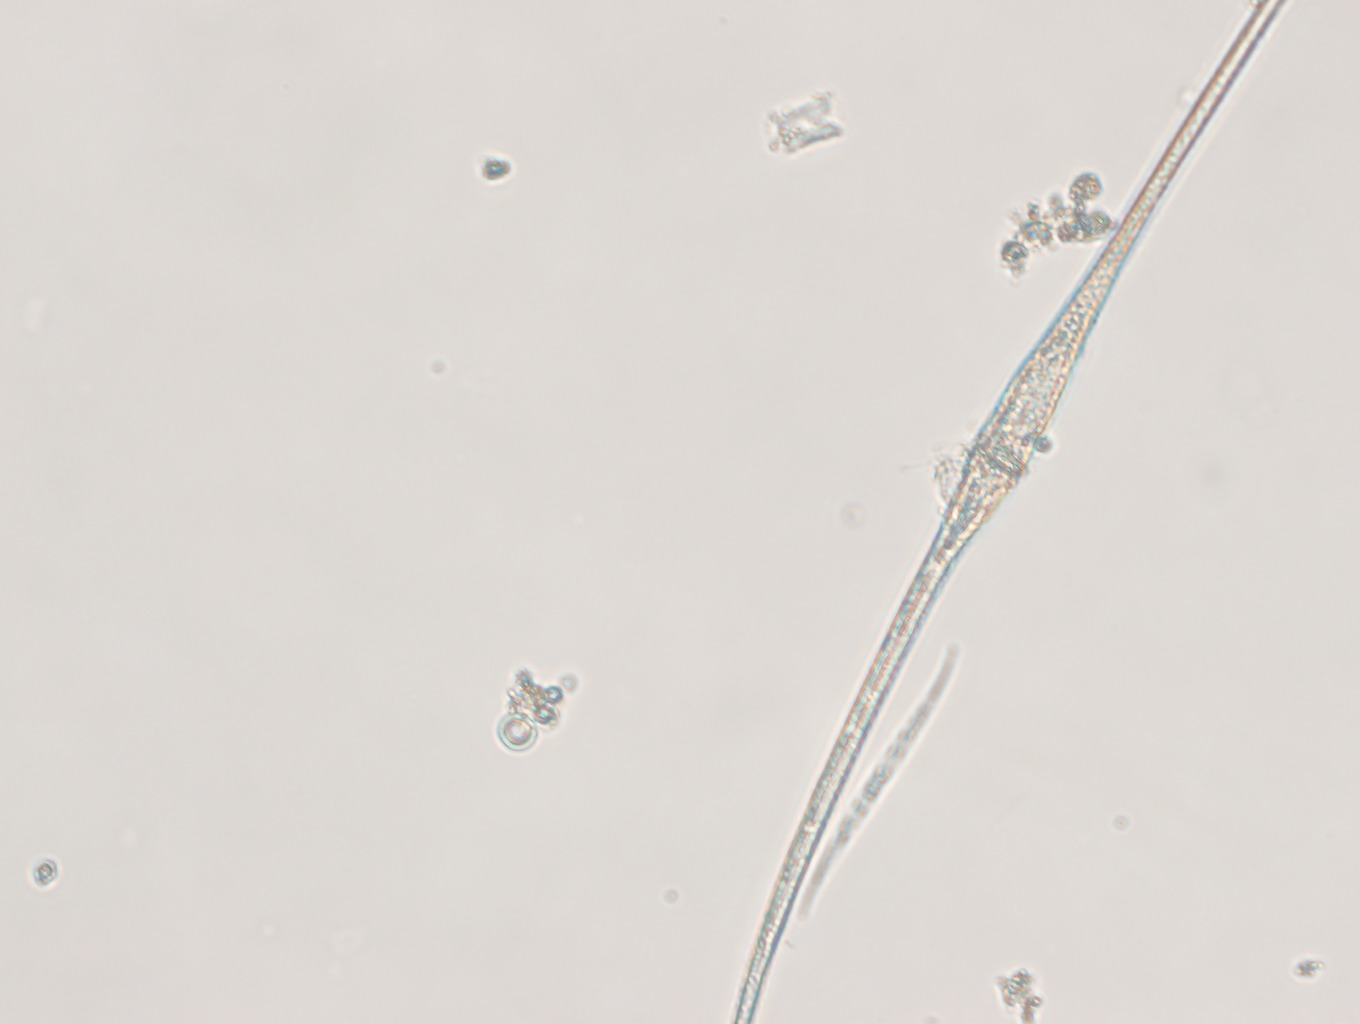ceratium fusus: (733, 1, 1286, 1024)
